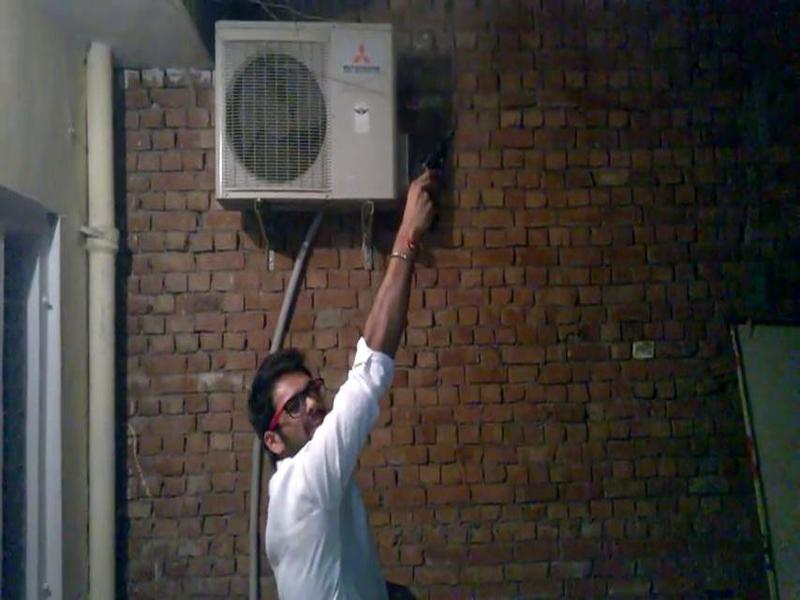Revolver: (402, 120, 483, 251)
